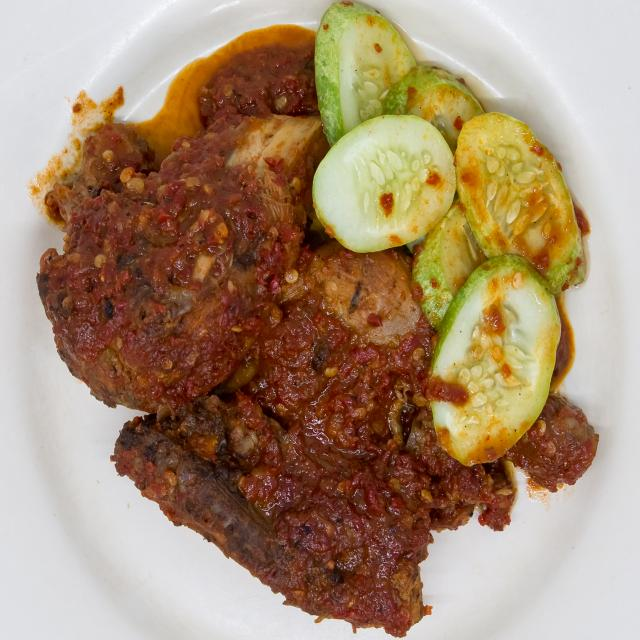Ayam-Bumbu-Rujak: (24, 69, 604, 632)
